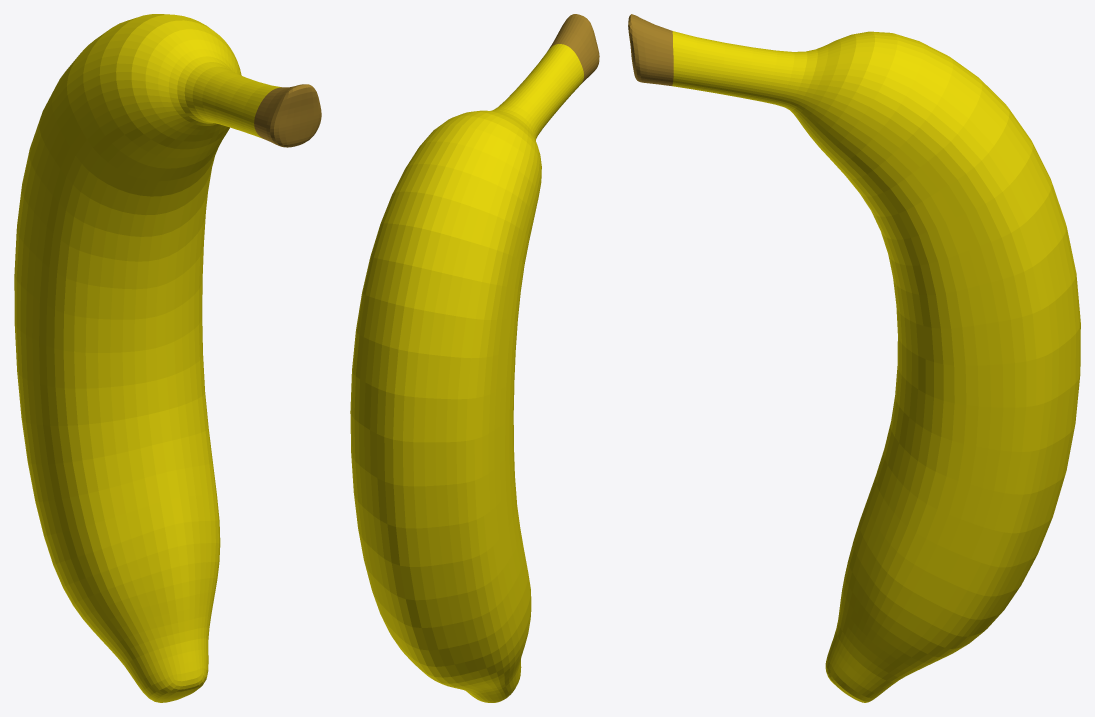
The model's file is Banana fbx.fbx.
The picture shows the model from 3 angles, left to right: view 1: azimuth 30°, elevation 25°; view 2: azimuth 150°, elevation 25°; view 3: azimuth 270°, elevation 25°; orthographic projection. The views are drawn at different scales.
Parts seen in each view (by area): view 1: Banana; view 2: Banana; view 3: Banana.
Boxes of the visible parts, x1,y1,x2,y2 form: Banana: [14, 14, 321, 702]; Banana: [350, 14, 599, 702]; Banana: [628, 14, 1080, 702].
Size of the model in its own units: 8.34 by 35.95 by 21.42.
